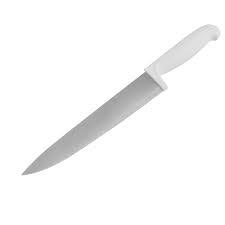Knife: (21, 23, 220, 175)
